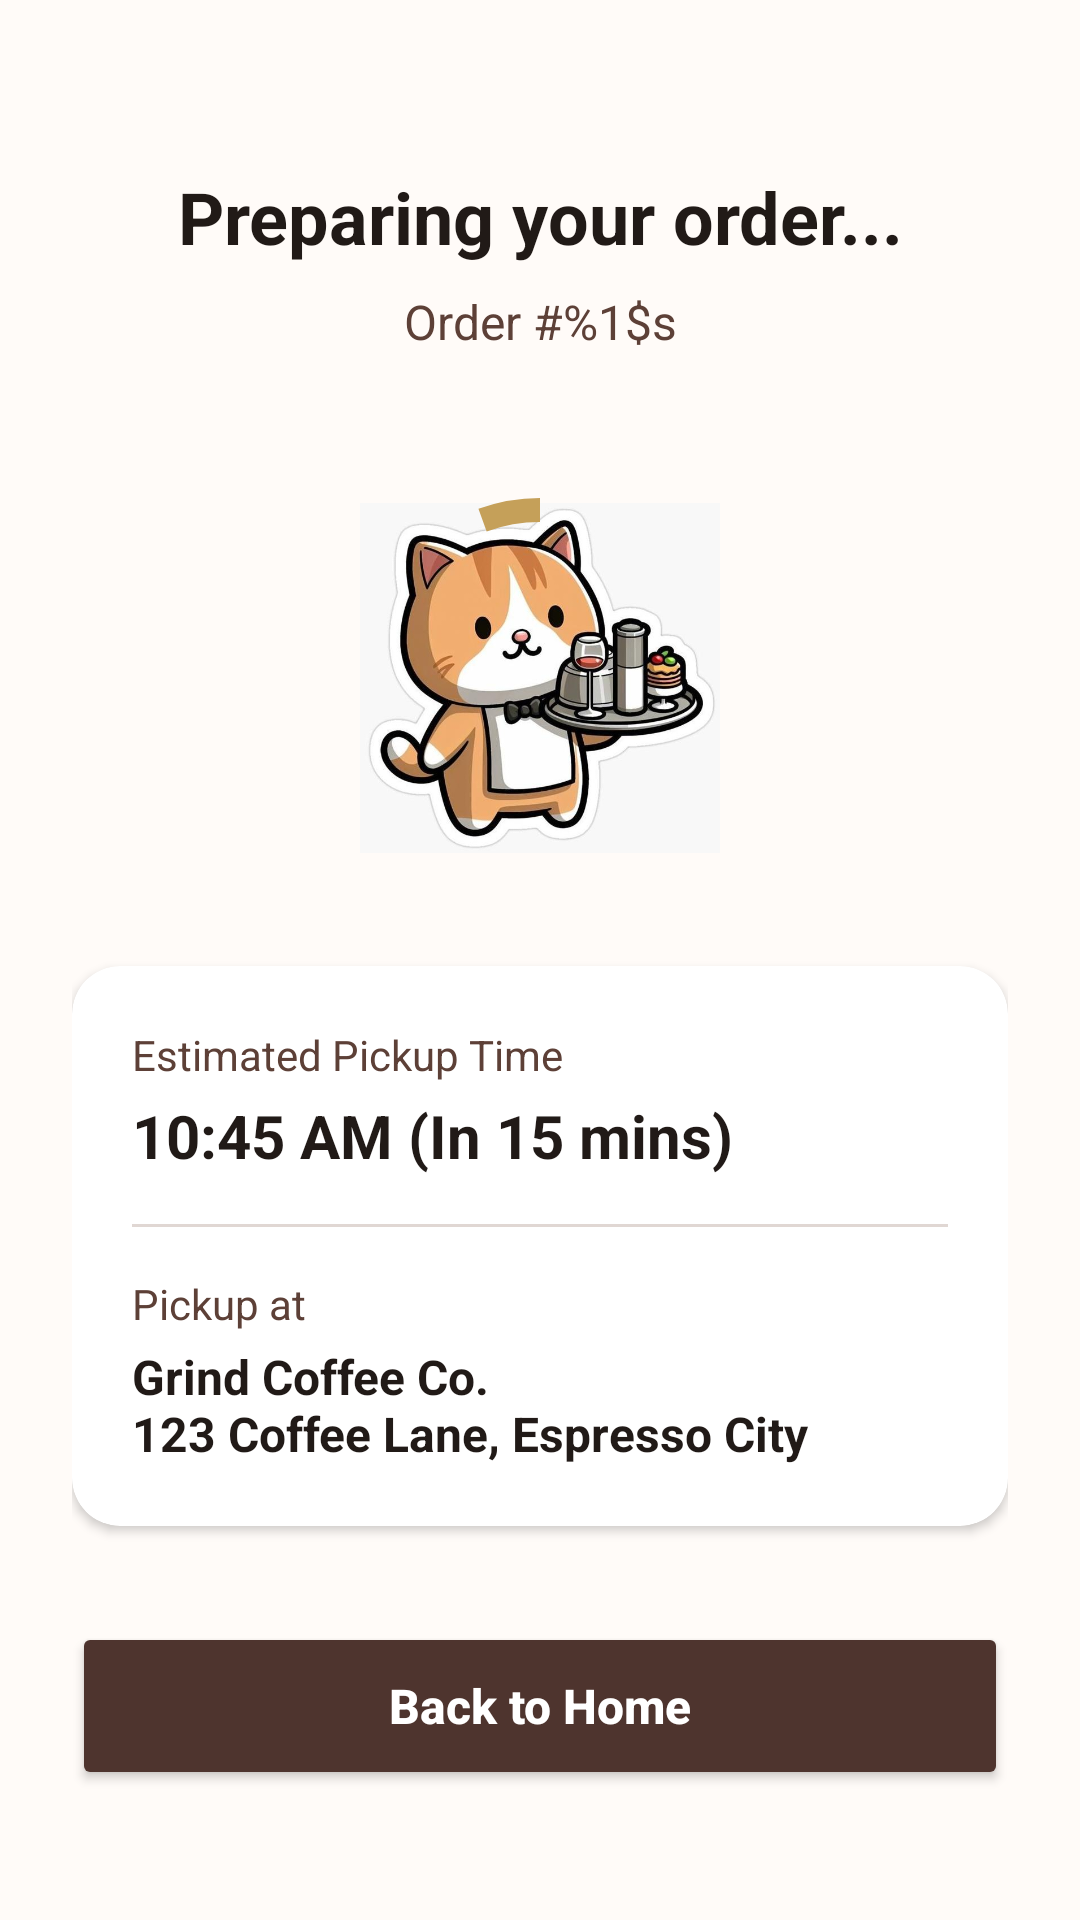

Icons on this 1080w x 1920h Android screen, each with the point to tap as [x,y]:
Preparing your order: [541,673]
